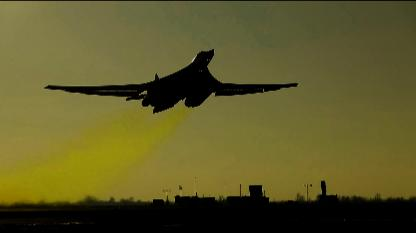Su34: (45, 49, 299, 113)
